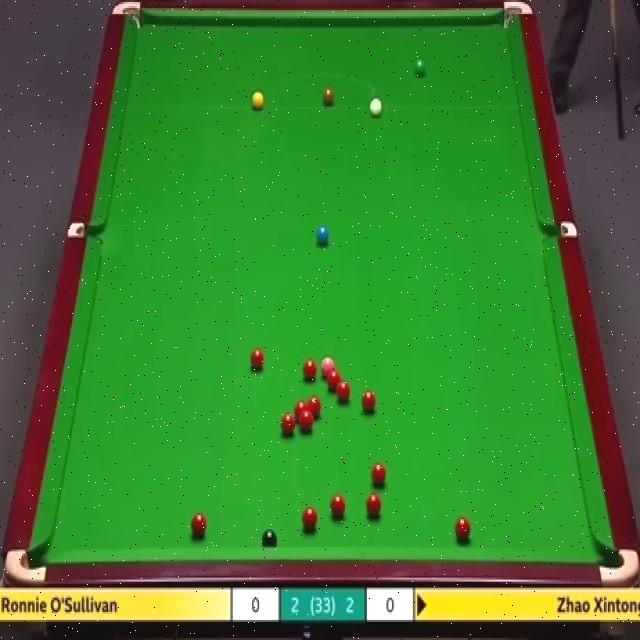black-ball: (261, 529, 278, 548)
blue-ball: (314, 221, 330, 247)
brown-ball: (322, 88, 334, 106)
green-ball: (412, 59, 427, 78)
pink-ball: (322, 357, 335, 379)
red-ball: (190, 512, 208, 538), (365, 492, 382, 518), (360, 389, 376, 415), (330, 494, 346, 519), (371, 462, 387, 486), (303, 506, 318, 531), (455, 516, 470, 540), (308, 396, 322, 421), (327, 369, 342, 391), (281, 413, 295, 436), (337, 381, 350, 404), (294, 400, 308, 421), (251, 349, 264, 371), (300, 412, 313, 432), (304, 361, 316, 381)
white-ball: (368, 95, 383, 118)
yellow-ball: (251, 90, 264, 110)
